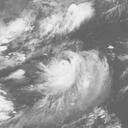cyclone: (39, 50, 107, 107)
